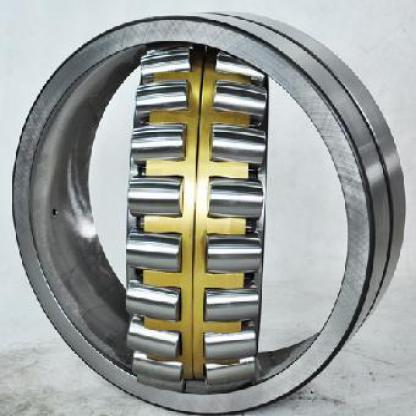FOD: (9, 5, 408, 410)
